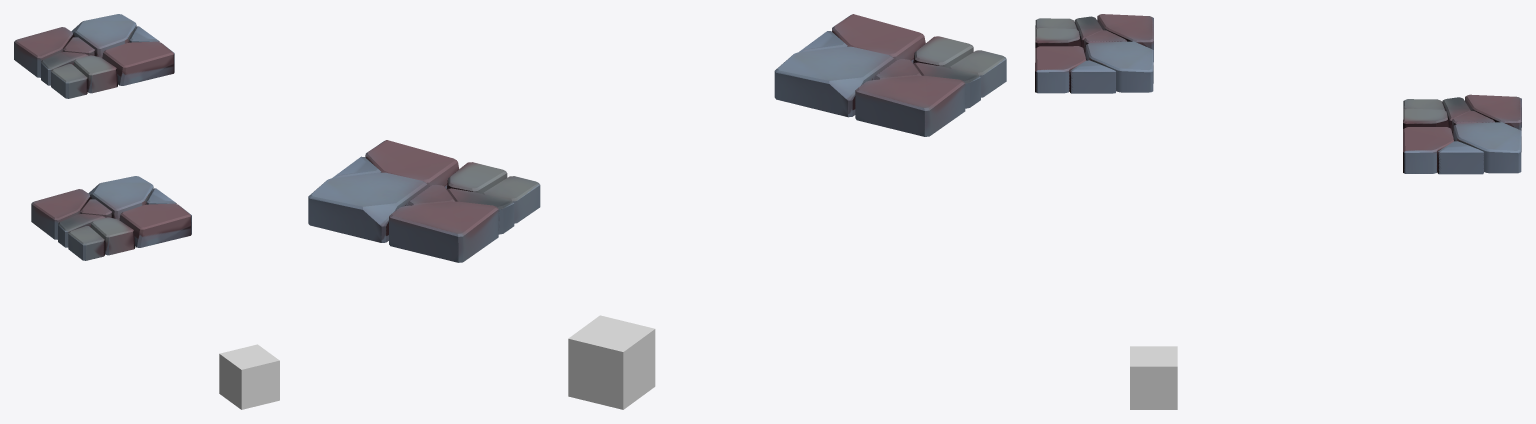
File: battlescence-3-floor009.fbx
3 views of the same model, side by side, from view 1: azimuth 30°, elevation 25°; view 2: azimuth 150°, elevation 25°; view 3: azimuth 270°, elevation 25° (orthographic). The views are drawn at different scales.
Parts seen in each view (by area): view 1: Plane.057, Plane.059, battlescence-3-floor009; view 2: Plane.057, Plane.059, battlescence-3-floor009; view 3: Plane.057, Plane.059, battlescence-3-floor009.
Boxes of the visible parts, x1,y1,x2,y2 form: Plane.057: [31, 176, 191, 260]; Plane.059: [14, 14, 174, 98]; battlescence-3-floor009: [219, 344, 279, 409]; Plane.057: [774, 14, 1006, 136]; Plane.059: [308, 140, 540, 262]; battlescence-3-floor009: [568, 315, 655, 409]; Plane.057: [1035, 14, 1153, 93]; Plane.059: [1403, 94, 1521, 174]; battlescence-3-floor009: [1130, 346, 1177, 409].
Bounding box in the file's own units: 762 × 698 × 1134.
